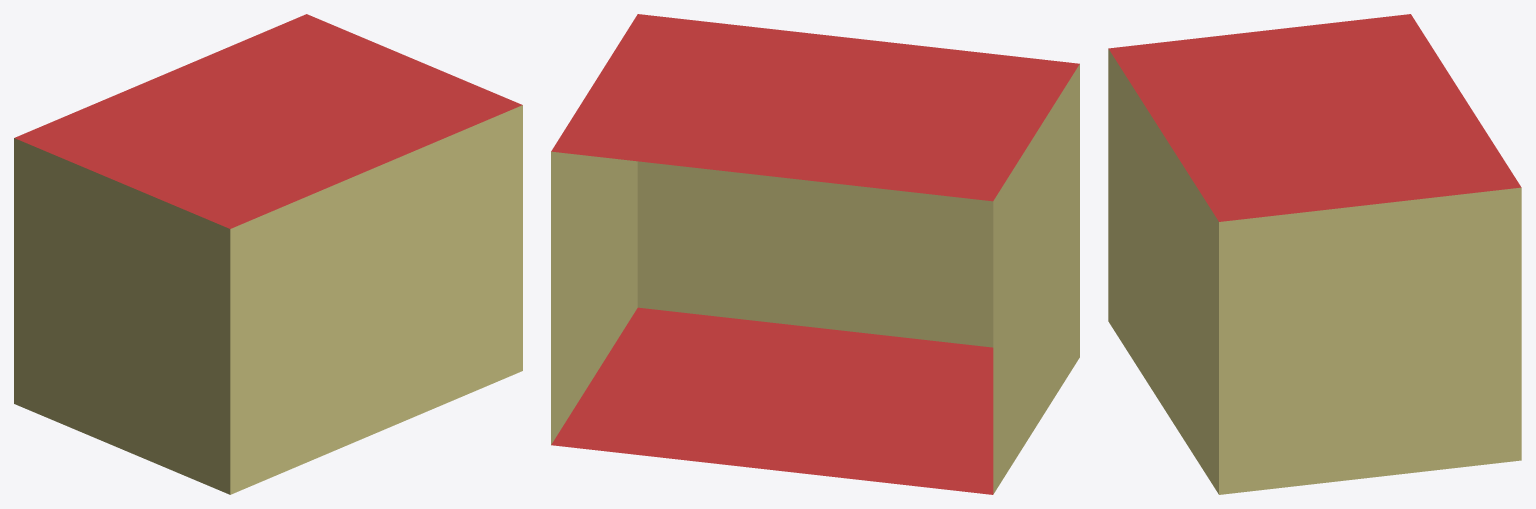
3 views of the same model, side by side, from view 1: azimuth 30°, elevation 25°; view 2: azimuth 150°, elevation 25°; view 3: azimuth 270°, elevation 25° (orthographic). The views are drawn at different scales.
Bounding box in the file's own units: 9.92 × 8.33 × 6.07.
